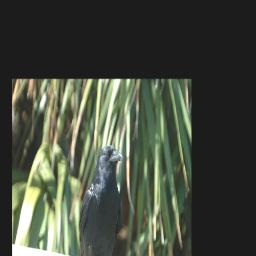Crow: (75, 145, 123, 256)
